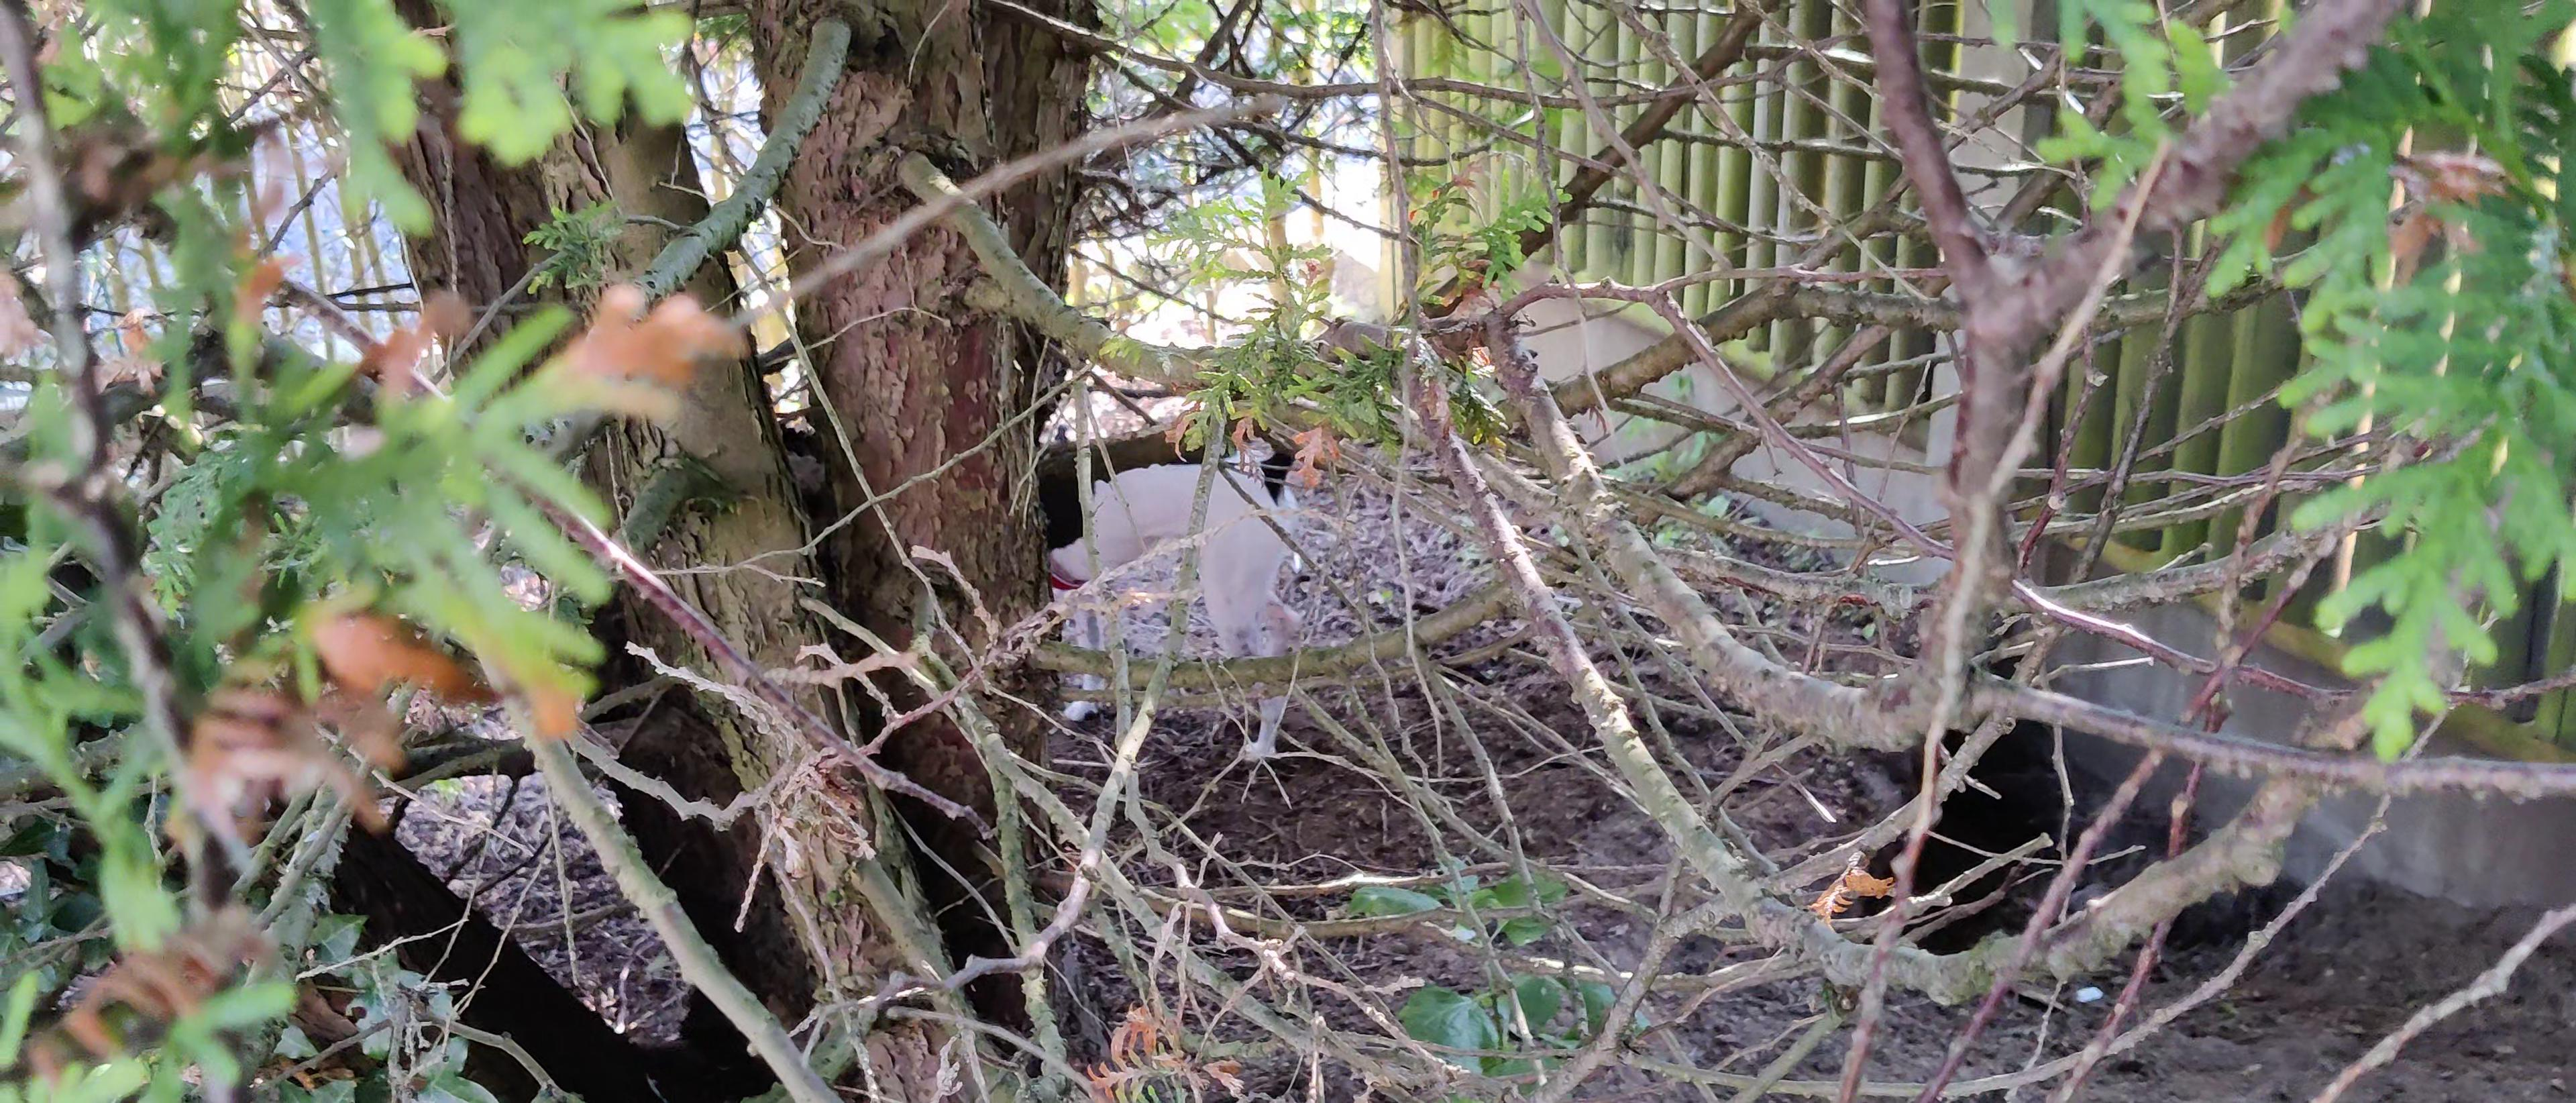Dog: (992, 355, 1332, 768)
